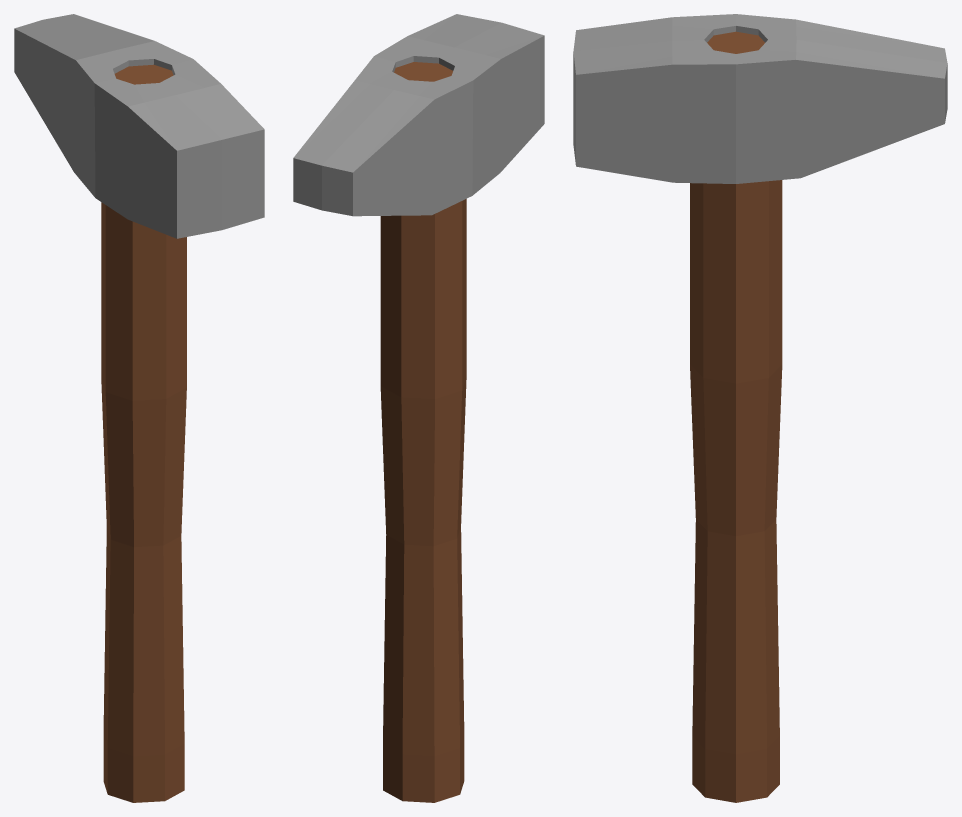
Rendered from hammer03.gltf.
The picture shows the model from 3 angles, left to right: view 1: azimuth 30°, elevation 25°; view 2: azimuth 150°, elevation 25°; view 3: azimuth 270°, elevation 25°; orthographic projection. The views are drawn at different scales.
Visible parts, largest first — view 1: Cylinder; view 2: Cylinder; view 3: Cylinder.
Part boxes in pixels (bbox=[...]): Cylinder: bbox=[14, 14, 264, 802]; Cylinder: bbox=[293, 14, 544, 802]; Cylinder: bbox=[573, 14, 947, 802].
Size of the model in its own units: 0.0352 by 0.2432 by 0.1106.
Materials: 1 (1 with a texture image).
